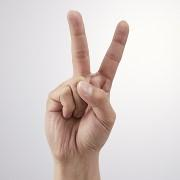tyoki: (43, 10, 130, 149)
